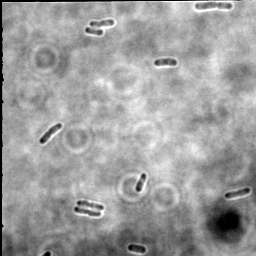Dividing: (38, 121, 65, 146), (72, 204, 103, 220), (223, 185, 253, 201), (194, 1, 235, 12), (76, 199, 106, 213), (88, 17, 117, 29)
Rod: (152, 56, 180, 69), (134, 172, 149, 194), (83, 26, 105, 38), (127, 242, 148, 254)
